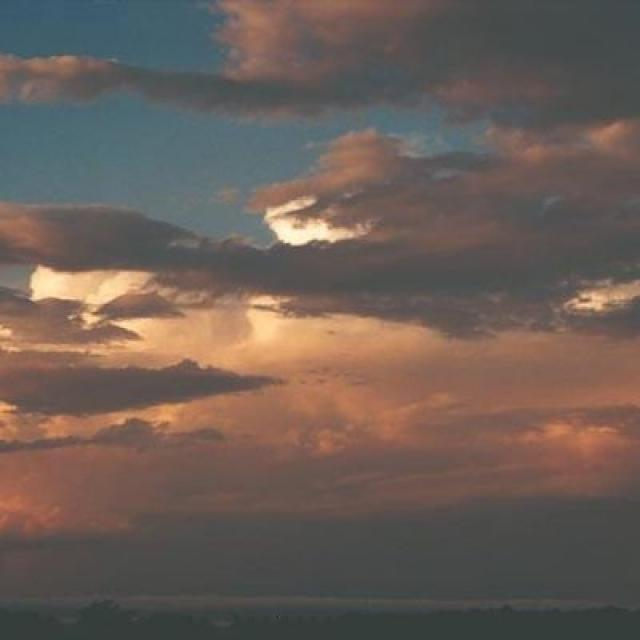Cb: (9, 11, 618, 485)
